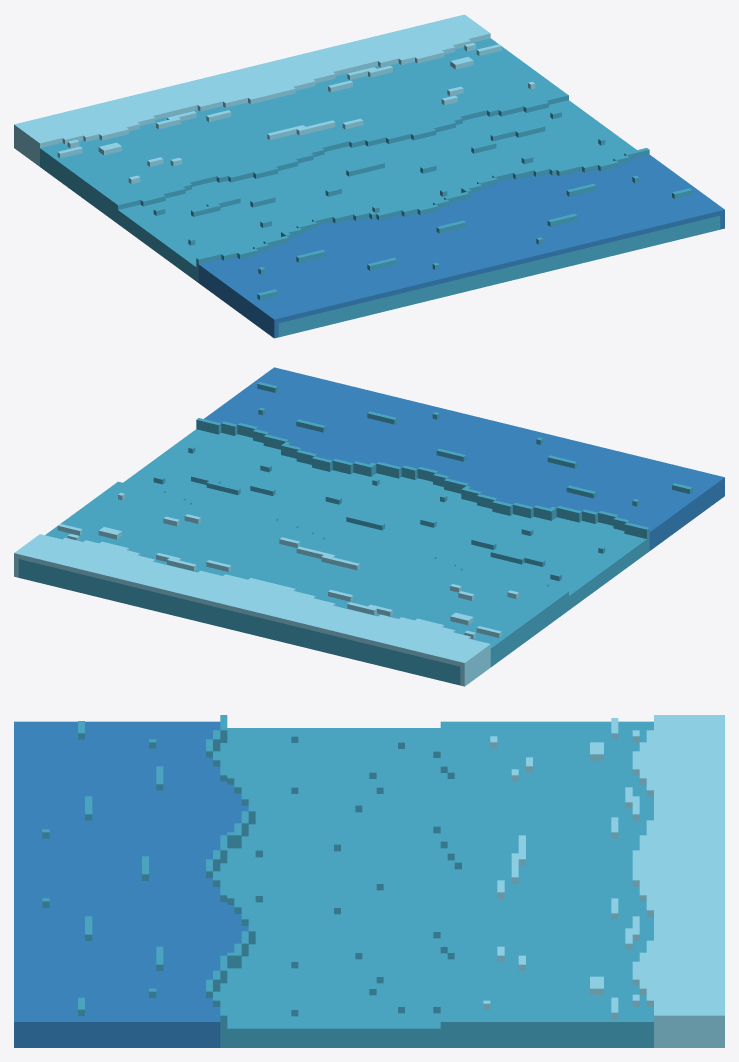
The model's file is Background_C_R_floor_01.FBX.
The picture shows the model from 3 angles, top to bottom: view 1: azimuth 30°, elevation 25°; view 2: azimuth 150°, elevation 25°; view 3: azimuth 270°, elevation 25°; orthographic projection. The views are drawn at different scales.
Parts seen in each view (by area): view 1: Background_C-24; view 2: Background_C-24; view 3: Background_C-24.
Part boxes in pixels (x1,y1,x2,y2): Background_C-24: (14, 14, 724, 338); Background_C-24: (14, 367, 724, 686); Background_C-24: (14, 715, 724, 1047).
Bounding box in the file's own units: 10 × 0.5 × 10.
Materials: 1 (1 with a texture image).
